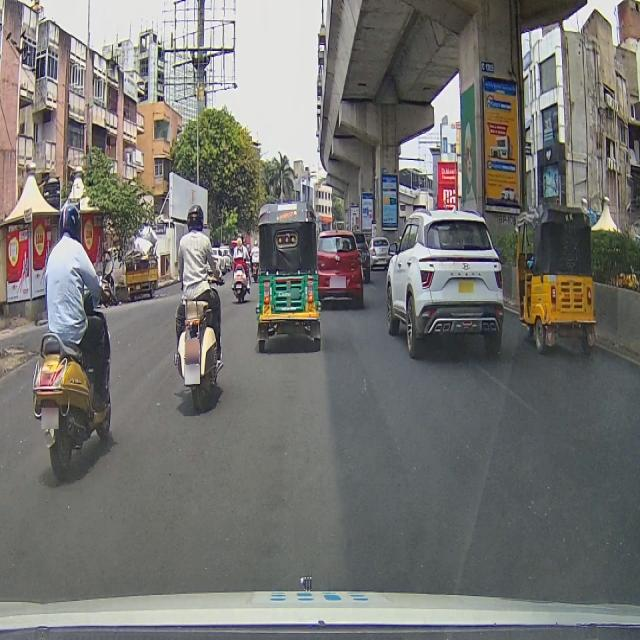auto ahead at: (513, 206, 602, 354), (254, 199, 332, 354), (122, 230, 159, 306)
car ahead at: (379, 205, 508, 361), (312, 219, 368, 325)
motorcycle ahead at: (34, 326, 119, 468), (166, 293, 232, 414)
